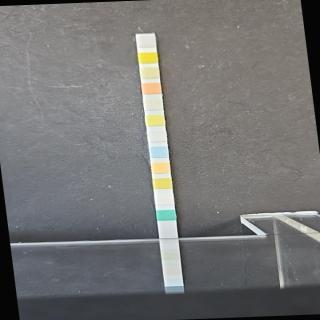mark: (156, 209, 176, 222), (138, 51, 158, 64), (150, 144, 168, 158), (142, 82, 161, 95), (145, 114, 165, 126), (144, 98, 162, 111), (137, 36, 155, 49), (151, 162, 170, 174), (152, 178, 172, 189), (155, 193, 173, 205), (148, 130, 166, 142), (142, 66, 159, 78)
